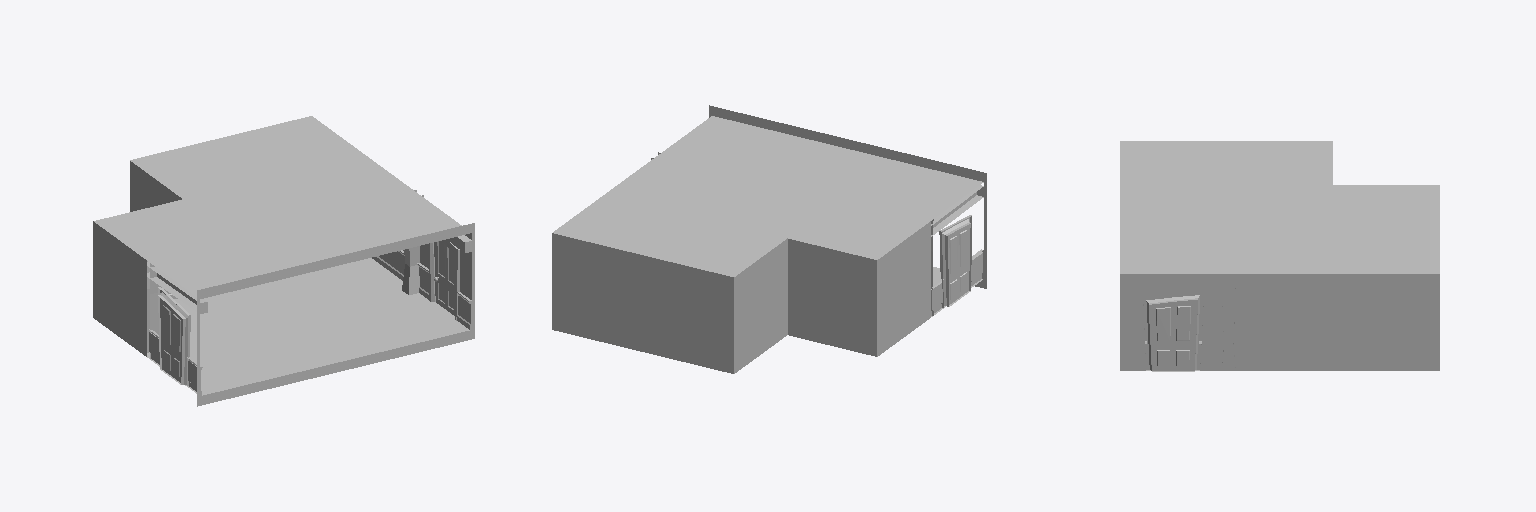
File: room_3x3.obj
The picture shows the model from 3 angles: view 1: azimuth 30°, elevation 25°; view 2: azimuth 150°, elevation 25°; view 3: azimuth 270°, elevation 25°; orthographic projection.
Parts seen in each view (by area): view 1: Cube.117_Cube.926, Cube.160_Cube.1007, door_wall.029_Plane.405, Cube.097_Cube.906, Cube.131_Cube.944, door_wall.038_Plane.384, door_wall.037_Plane.375, door_wall.036_Plane.419, door_wall.046_Plane.422, door_wall.040_Plane.420, door_wall.035_Plane.373; view 2: Cube.117_Cube.926, door_wall.029_Plane.405, Cube.097_Cube.906, door_wall.038_Plane.384, Cube.131_Cube.944, door_wall.040_Plane.420; view 3: Cube.117_Cube.926, door_wall.029_Plane.405, door_wall.046_Plane.422, door_wall.037_Plane.375.
Boxes of the visible parts, <box> form: Cube.117_Cube.926: <box>94,116,461,296</box>; Cube.160_Cube.1007: <box>147,258,469,395</box>; door_wall.029_Plane.405: <box>93,161,403,356</box>; Cube.097_Cube.906: <box>197,223,474,406</box>; Cube.131_Cube.944: <box>147,190,471,358</box>; door_wall.038_Plane.384: <box>158,287,190,385</box>; door_wall.037_Plane.375: <box>428,239,459,320</box>; door_wall.036_Plane.419: <box>417,263,471,329</box>; door_wall.046_Plane.422: <box>420,233,471,299</box>; door_wall.040_Plane.420: <box>149,329,202,395</box>; door_wall.035_Plane.373: <box>161,250,404,298</box>; Cube.117_Cube.926: <box>553,116,983,276</box>; door_wall.029_Plane.405: <box>552,221,930,373</box>; Cube.097_Cube.906: <box>709,105,986,288</box>; door_wall.038_Plane.384: <box>939,215,971,307</box>; Cube.131_Cube.944: <box>651,152,983,315</box>; door_wall.040_Plane.420: <box>931,249,983,315</box>; Cube.117_Cube.926: <box>1120,141,1439,273</box>; door_wall.029_Plane.405: <box>1227,274,1439,370</box>; door_wall.046_Plane.422: <box>1120,274,1226,370</box>; door_wall.037_Plane.375: <box>1143,293,1203,371</box>.
Size of the model in its own units: 30 by 12 by 30.